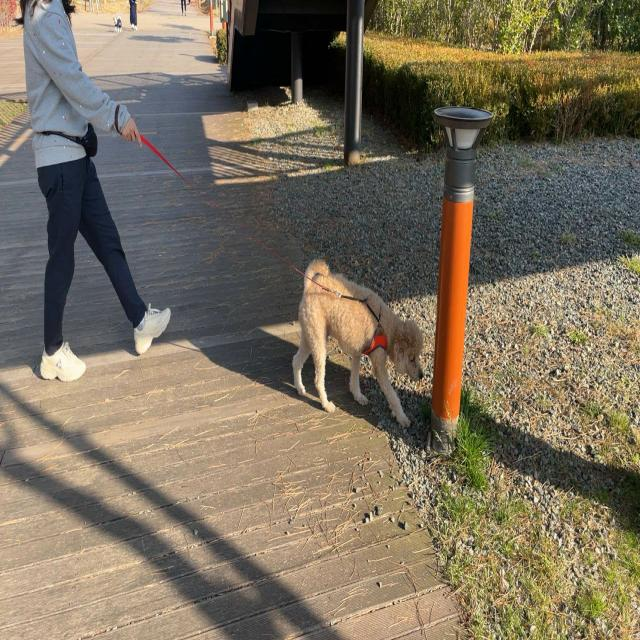Leashed_Dog: (92, 96, 424, 430)
